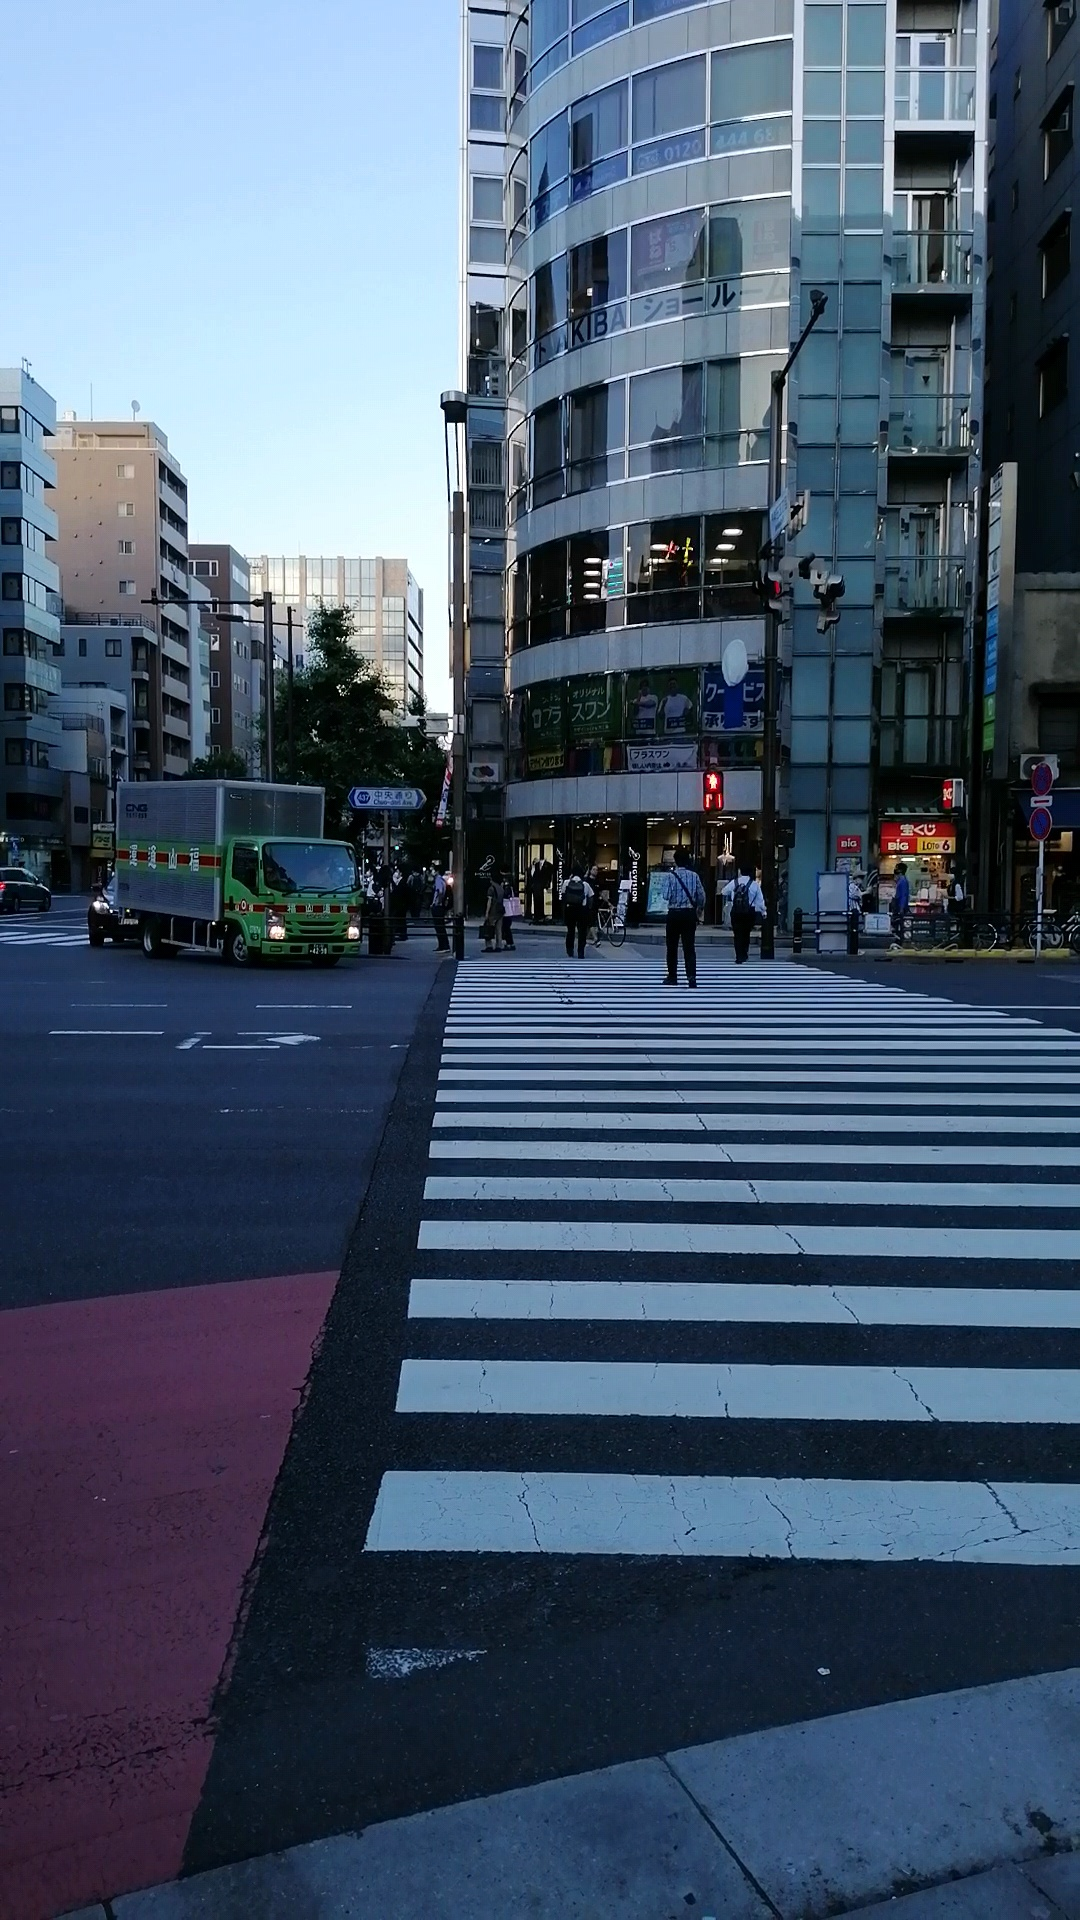red: (702, 767, 724, 814)
